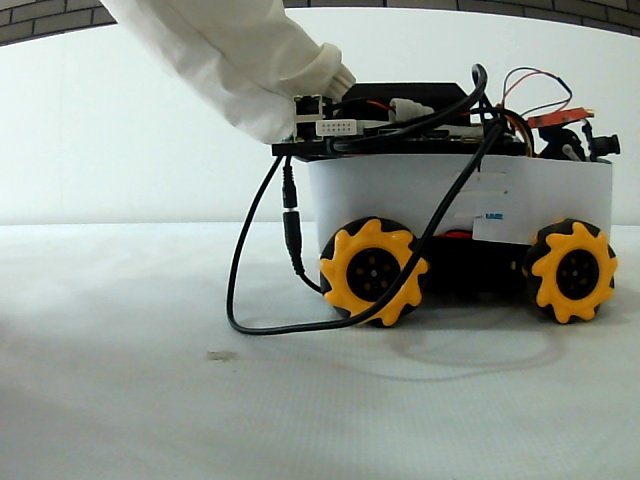car: (290, 75, 617, 332)
paper: (309, 162, 609, 220)
